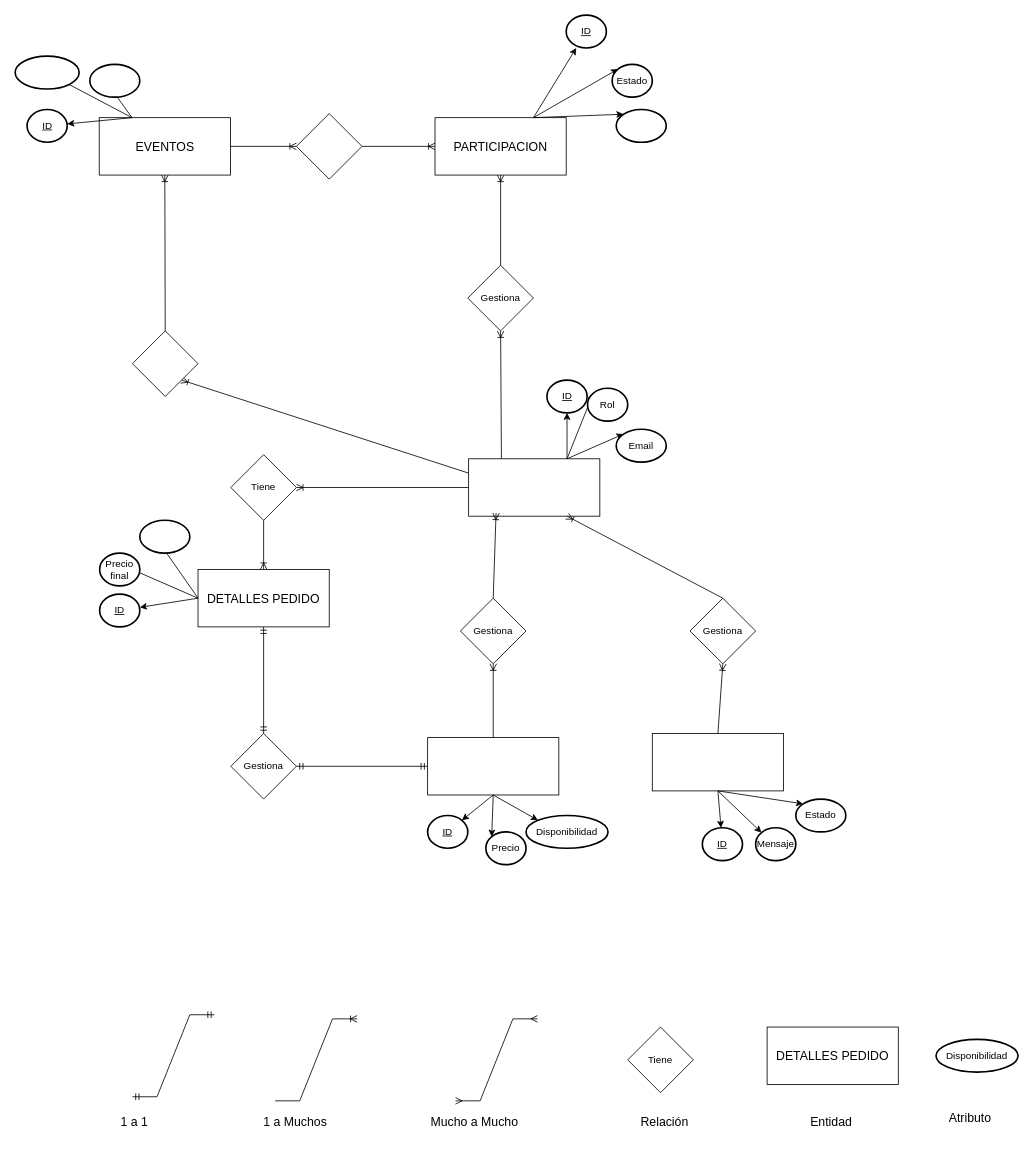
Some shapes in this 1032 by 1150 pixel diagram are drawn without their labels. The centre of each missing label's shape, as x and y in pixels:
"Capacidad" goes at [114,80].
"descripcion" goes at [47,72].
"Descuento" goes at [164,536].
"Fecha registro" goes at [641,125].
"NOTIFICACION" goes at [717,762].
"Organiza" goes at [165,363].
"PRODUCTO" goes at [493,766].
"Recibe" goes at [329,146].
"USUARIO" goes at [534,487].
